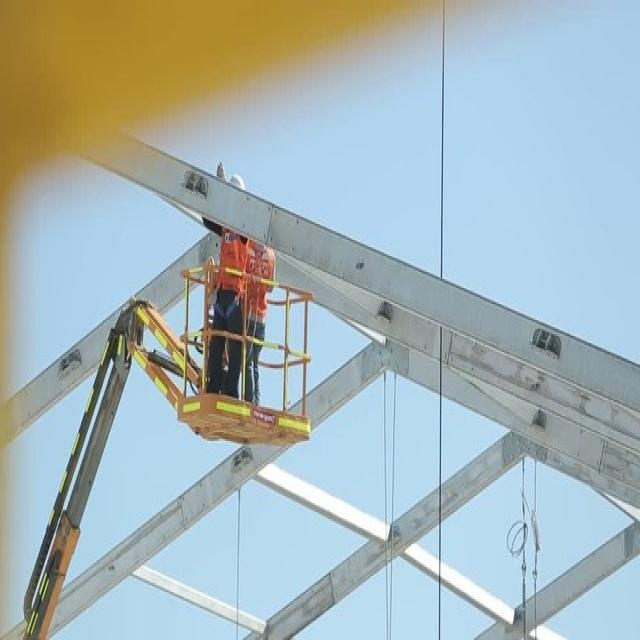Arnes_seguridad: (215, 221, 247, 322), (249, 245, 271, 320)
